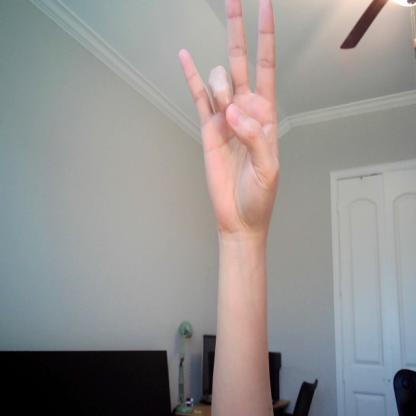seven: (178, 0, 282, 234)
